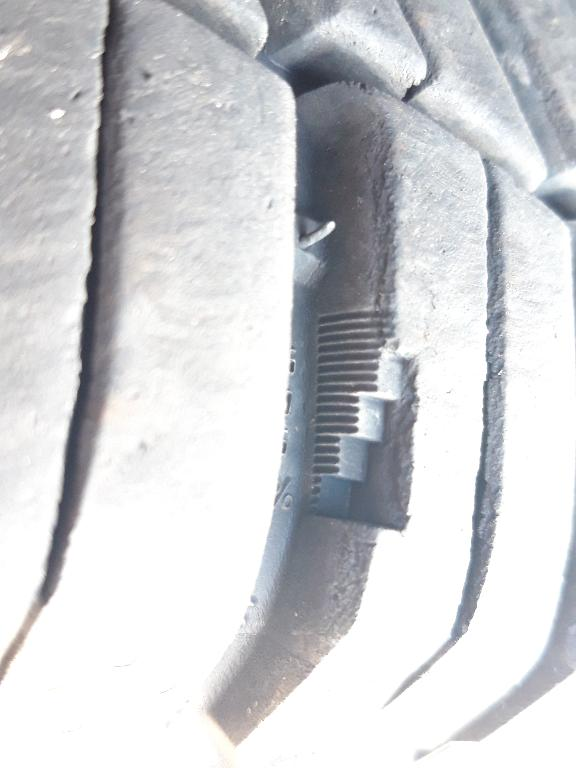temoin:80: (298, 300, 430, 544)
